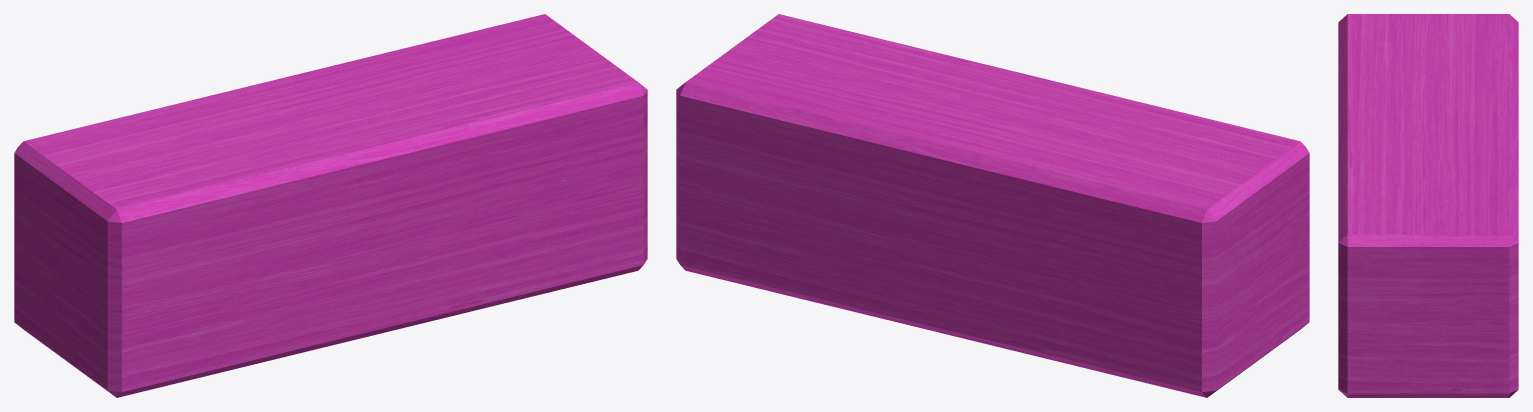
The model's file is Block_3x1.fbx.
3 renders of one model, left to right at view 1: azimuth 30°, elevation 25°; view 2: azimuth 150°, elevation 25°; view 3: azimuth 270°, elevation 25°, orthographic. The views are drawn at different scales.
Visible parts, largest first — view 1: 1x3; view 2: 1x3; view 3: 1x3.
Boxes of the visible parts, x1,y1,x2,y2 form: 1x3: (14, 14, 647, 397); 1x3: (676, 14, 1309, 397); 1x3: (1338, 14, 1518, 397).
Size of the model in its own units: 300 by 100 by 100.
Materials: 1 (1 with a texture image).
